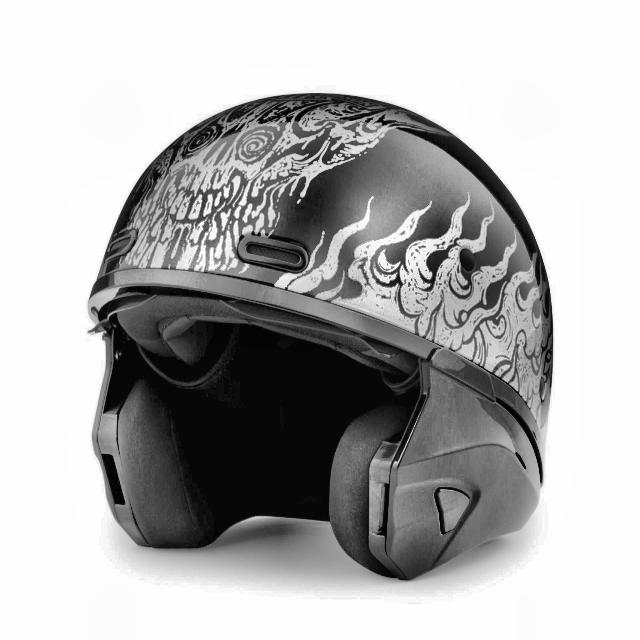Helmet: (96, 65, 565, 579)
